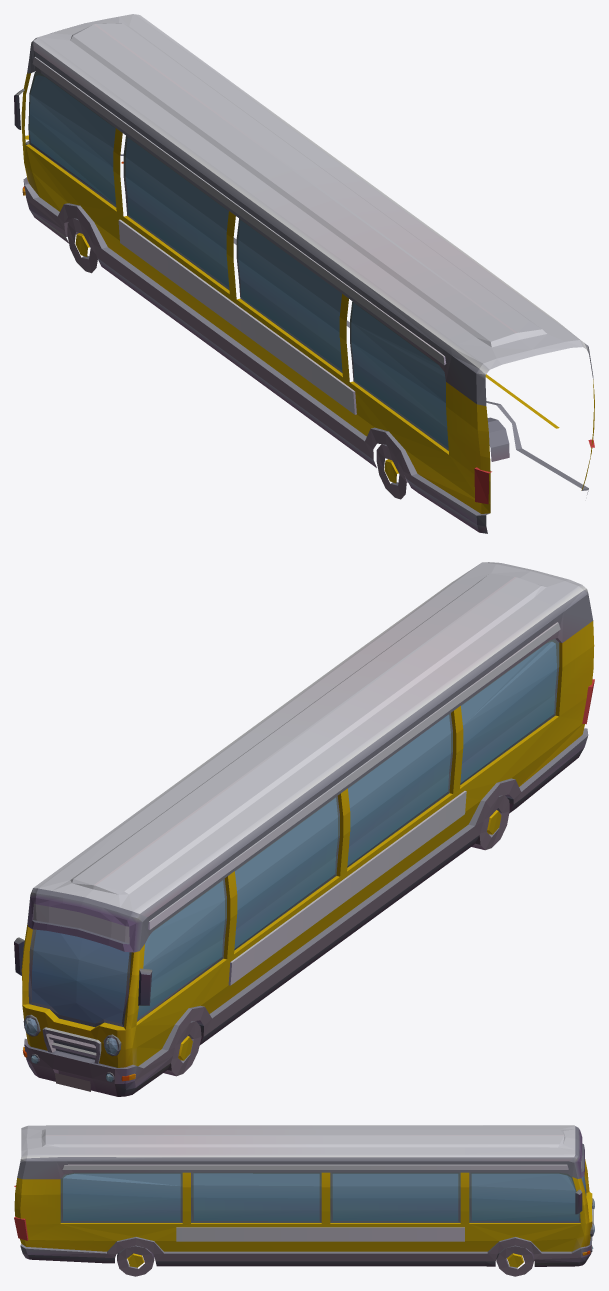
Rendered from city_double8_bus01.glb.
3 renders of one model, top to bottom at view 1: azimuth 30°, elevation 25°; view 2: azimuth 150°, elevation 25°; view 3: azimuth 270°, elevation 25°, orthographic. The views are drawn at different scales.
Parts seen in each view (by area): view 1: city_double8_bus01; view 2: city_double8_bus01; view 3: city_double8_bus01.
Part boxes in pixels (bbox=[...]): city_double8_bus01: bbox=[14, 14, 594, 533]; city_double8_bus01: bbox=[14, 562, 594, 1096]; city_double8_bus01: bbox=[14, 1125, 594, 1276].
Bounding box in the file's own units: 1.32 × 1.9 × 7.89.
